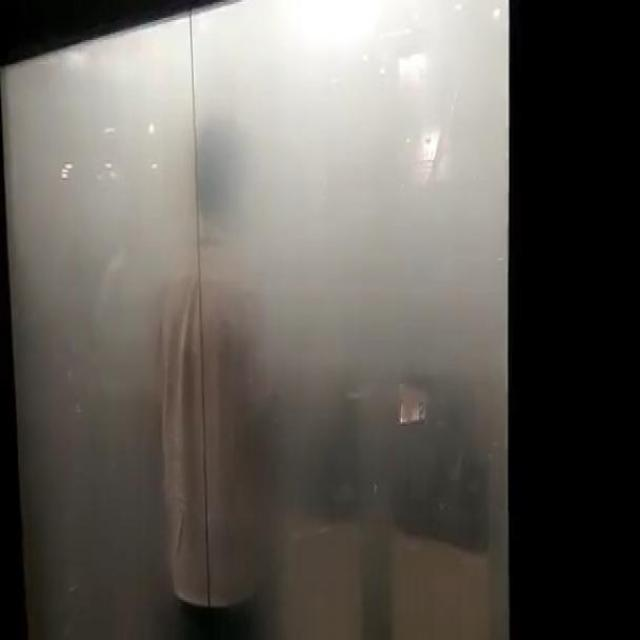Smoke: (9, 52, 499, 590)
